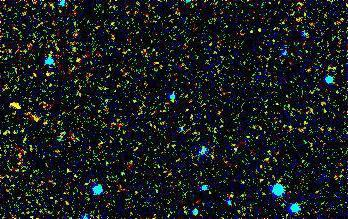star: (3, 91, 33, 121)
